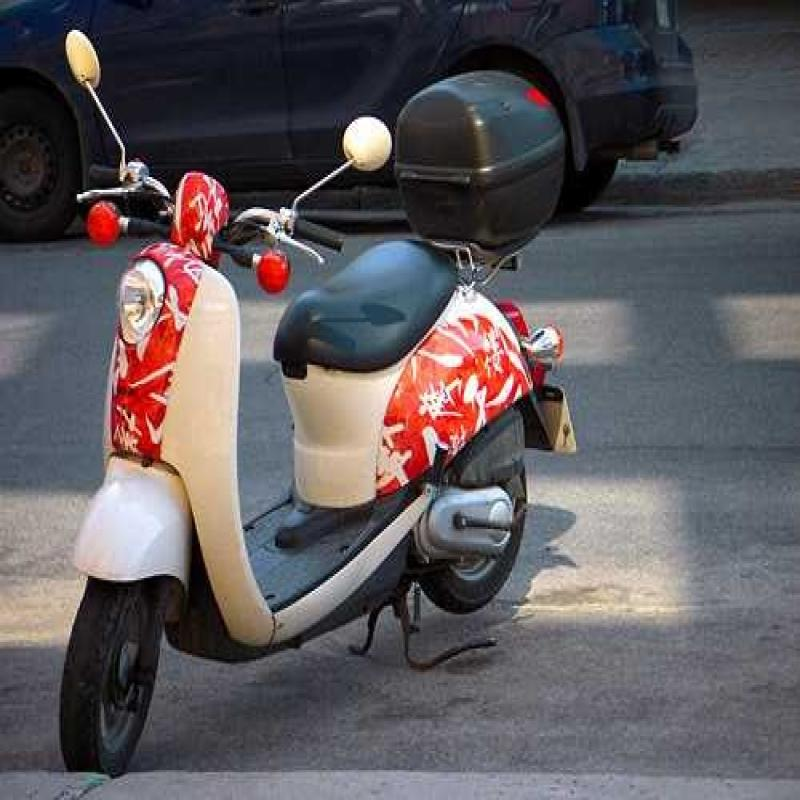bike: (51, 22, 530, 729)
